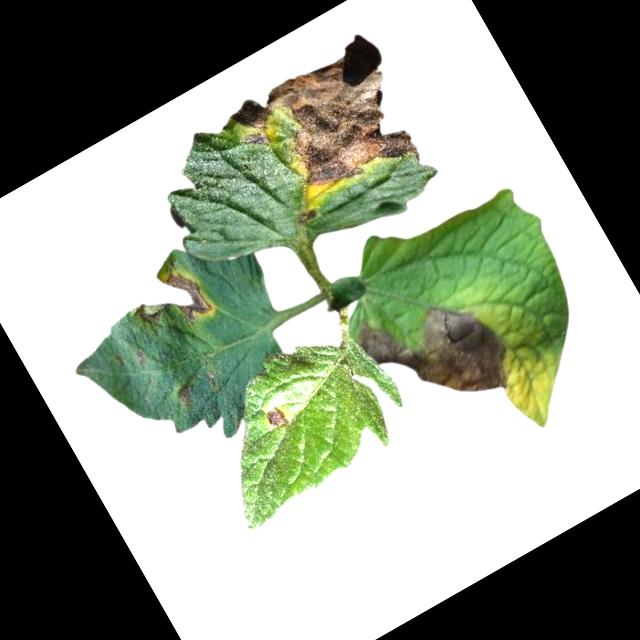Early_blight: (222, 28, 435, 232), (350, 263, 523, 438), (124, 260, 218, 349), (260, 400, 294, 434), (171, 379, 197, 404)
